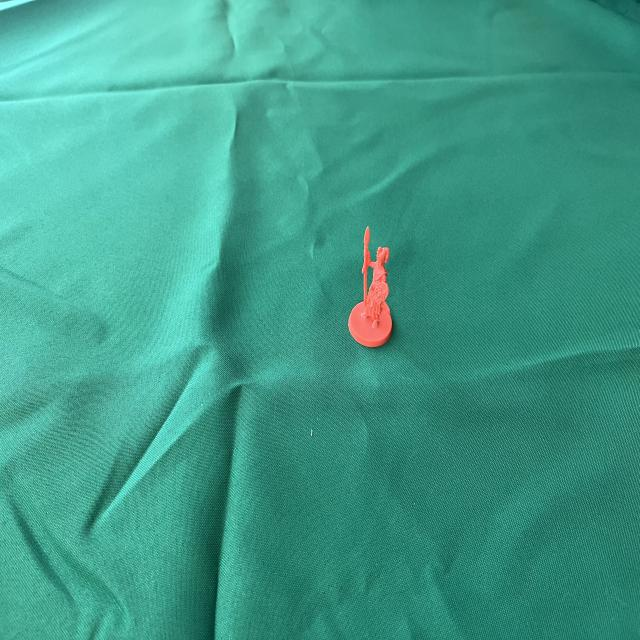amon_follower: (349, 227, 392, 347)
